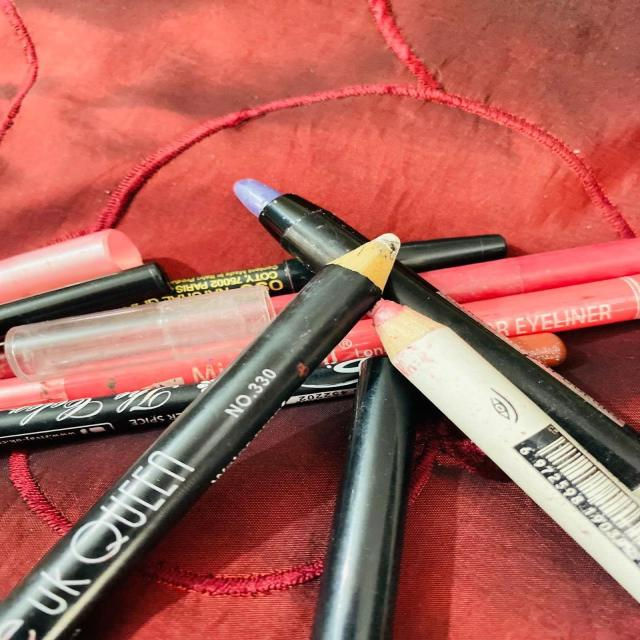eye liner: (0, 155, 640, 640)
